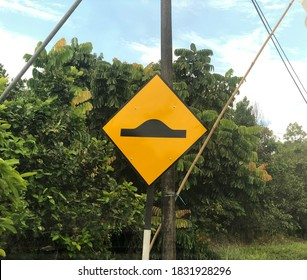speed-breaker: (102, 73, 209, 187)
